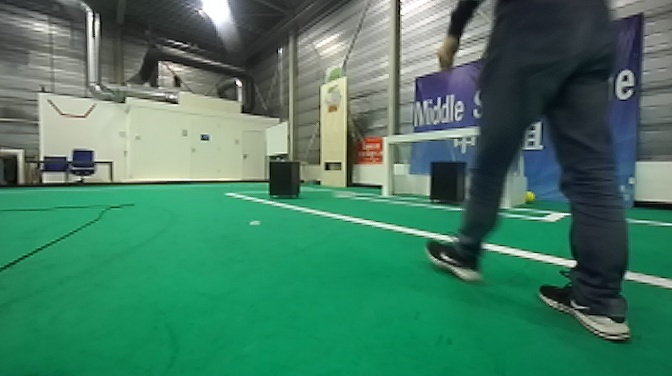ball: (522, 187, 536, 204)
goalpost: (379, 134, 392, 200)
human: (433, 1, 636, 350)
